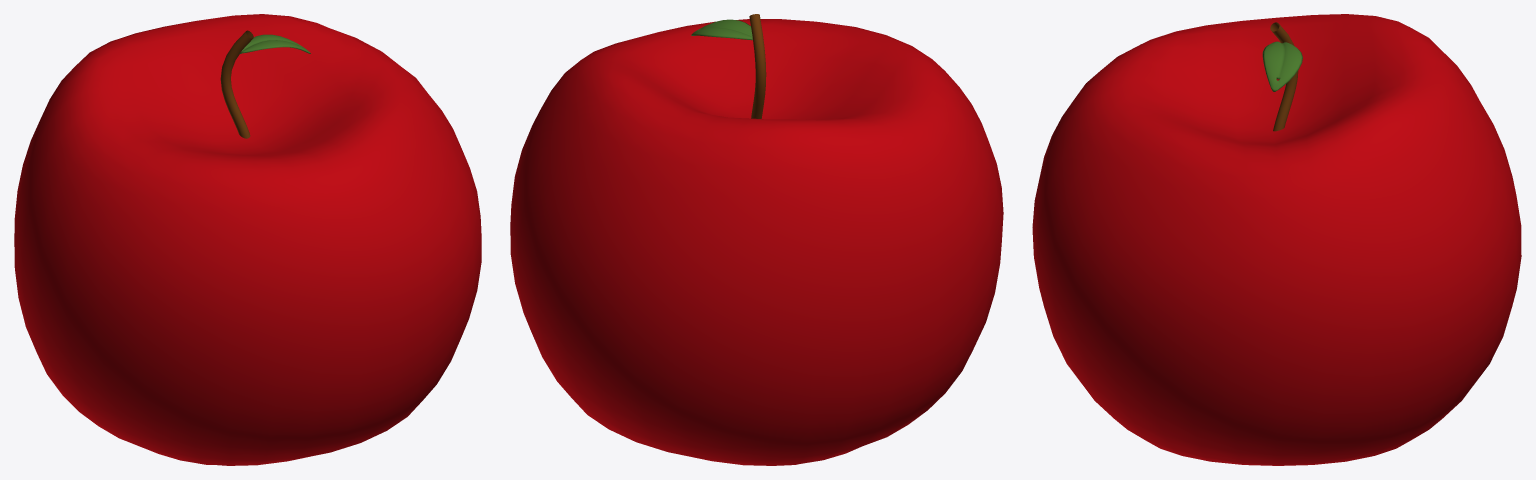
The model's file is Apple.fbx.
The picture shows the model from 3 angles, left to right: view 1: azimuth 30°, elevation 25°; view 2: azimuth 150°, elevation 25°; view 3: azimuth 270°, elevation 25°; orthographic projection. The views are drawn at different scales.
Parts seen in each view (by area): view 1: Cube, BezierCurve, Plane; view 2: Cube, BezierCurve, Plane; view 3: Cube, Plane, BezierCurve.
Boxes of the visible parts, x1=… form: Cube: x1=14, y1=14, x2=481, y2=465; BezierCurve: x1=220, y1=30, x2=253, y2=138; Plane: x1=239, y1=34, x2=310, y2=53; Cube: x1=510, y1=19, x2=1003, y2=465; BezierCurve: x1=749, y1=14, x2=766, y2=118; Plane: x1=691, y1=19, x2=752, y2=40; Cube: x1=1032, y1=14, x2=1521, y2=465; Plane: x1=1262, y1=41, x2=1302, y2=91; BezierCurve: x1=1270, y1=22, x2=1298, y2=131.
Bounding box in the file's own units: 273 × 238 × 273.
